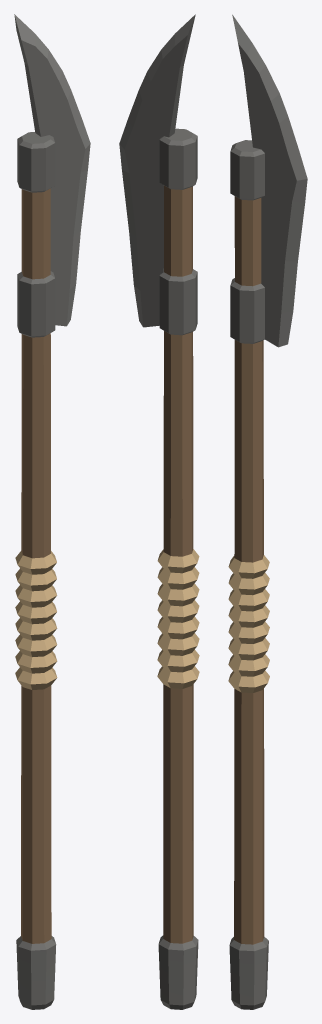
Rendered from SM_pwe_medieval_halberd_04.fbx.
3 views of the same model, side by side, from view 1: azimuth 30°, elevation 25°; view 2: azimuth 150°, elevation 25°; view 3: azimuth 330°, elevation 25° (orthographic).
Parts seen in each view (by area): view 1: SM_pwe_medieval_halberd_04; view 2: SM_pwe_medieval_halberd_04; view 3: SM_pwe_medieval_halberd_04.
Boxes of the visible parts, <box> form: SM_pwe_medieval_halberd_04: <box>14,14,90,1009</box>; SM_pwe_medieval_halberd_04: <box>119,14,199,1009</box>; SM_pwe_medieval_halberd_04: <box>228,14,307,1009</box>.
Size of the model in its own units: 12.56 by 157 by 6.23.
